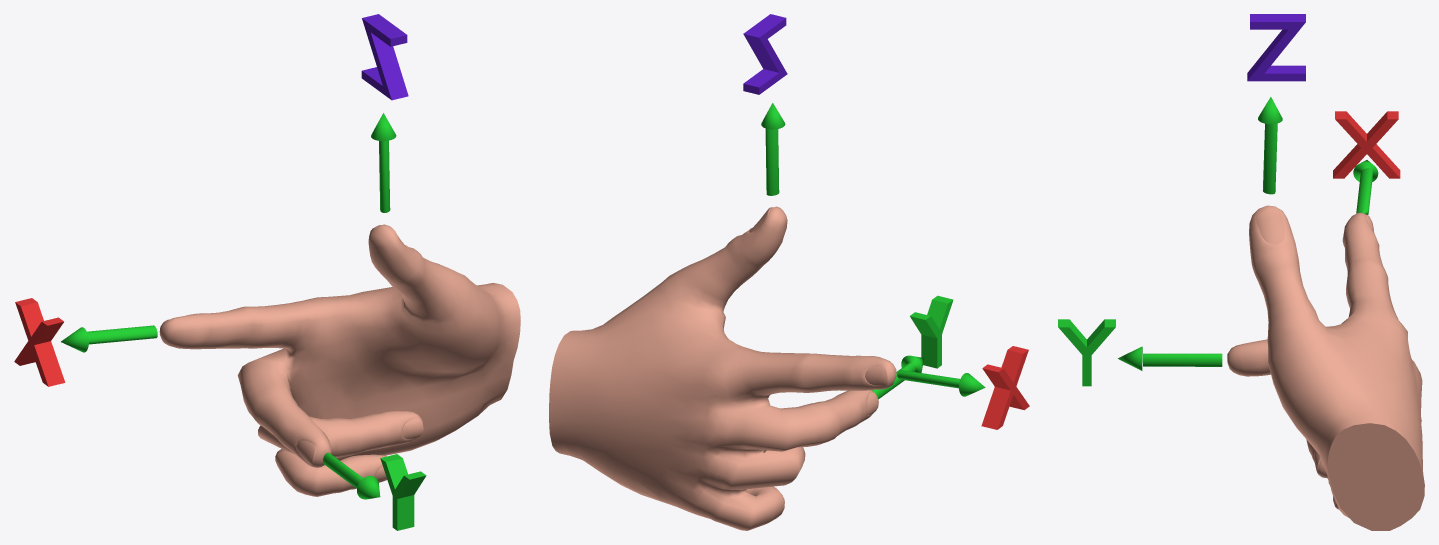
Rendered from manodrecha.fbx.
The picture shows the model from 3 angles, left to right: view 1: azimuth 30°, elevation 25°; view 2: azimuth 150°, elevation 25°; view 3: azimuth 270°, elevation 25°; orthographic projection. The views are drawn at different scales.
Visible parts, largest first — view 1: hand, Object_11, Object_9, Object_7, Object_2.001, Object_2.002, Object_2; view 2: hand, Object_9, Object_11, Object_7, Object_2.002, Object_2.001, Object_2; view 3: hand, Object_11, Object_9, Object_2, Object_7, Object_2.002, Object_2.001.
Part boxes in pixels (x1,y1,x2,y2): hand: [159, 224, 520, 496]; Object_11: [361, 14, 408, 100]; Object_9: [14, 298, 65, 386]; Object_7: [380, 454, 426, 530]; Object_2.001: [61, 325, 157, 352]; Object_2.002: [371, 113, 396, 212]; Object_2: [323, 452, 380, 499]; hand: [549, 206, 896, 530]; Object_9: [981, 346, 1029, 429]; Object_11: [743, 14, 787, 94]; Object_7: [910, 295, 953, 368]; Object_2.002: [761, 103, 785, 195]; Object_2.001: [897, 370, 985, 396]; Object_2: [871, 355, 923, 399]; hand: [1227, 205, 1424, 530]; Object_11: [1247, 14, 1305, 81]; Object_9: [1333, 111, 1400, 178]; Object_2: [1118, 346, 1222, 370]; Object_7: [1058, 319, 1115, 386]; Object_2.002: [1258, 97, 1282, 194]; Object_2.001: [1353, 160, 1378, 214].
Bounding box in the file's own units: 0.2562 × 0.2516 × 0.175.
